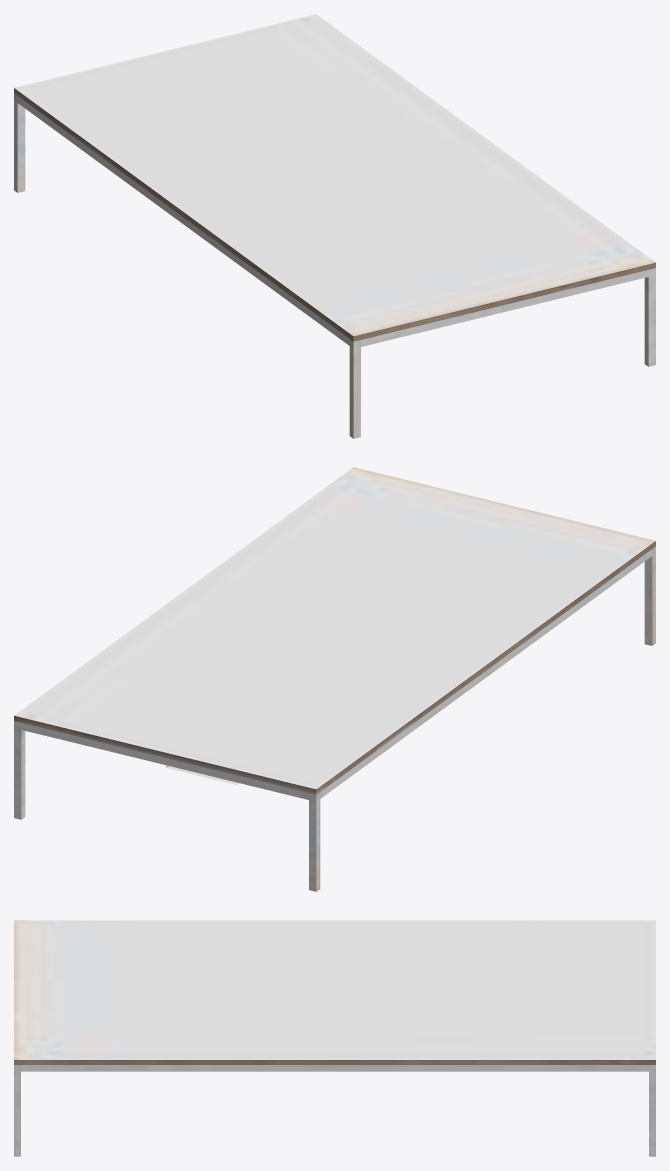
Rendered from table_0.glb.
3 renders of one model, top to bottom at view 1: azimuth 30°, elevation 25°; view 2: azimuth 150°, elevation 25°; view 3: azimuth 270°, elevation 25°, orthographic. The views are drawn at different scales.
Parts seen in each view (by area): view 1: table_0; view 2: table_0; view 3: table_0.
Part boxes in pixels (x1,y1,x2,y2): table_0: (14, 14, 655, 438); table_0: (14, 467, 655, 891); table_0: (14, 920, 655, 1156).
Size of the model in its own units: 2.16 by 0.6988 by 4.2.
1 material, 1 textured.
